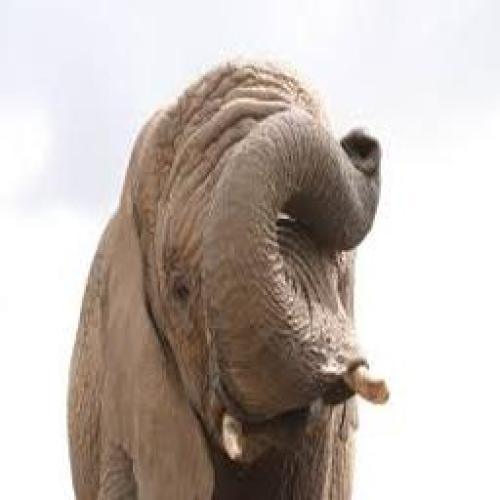african_elephant-endangered: (66, 59, 388, 496)
